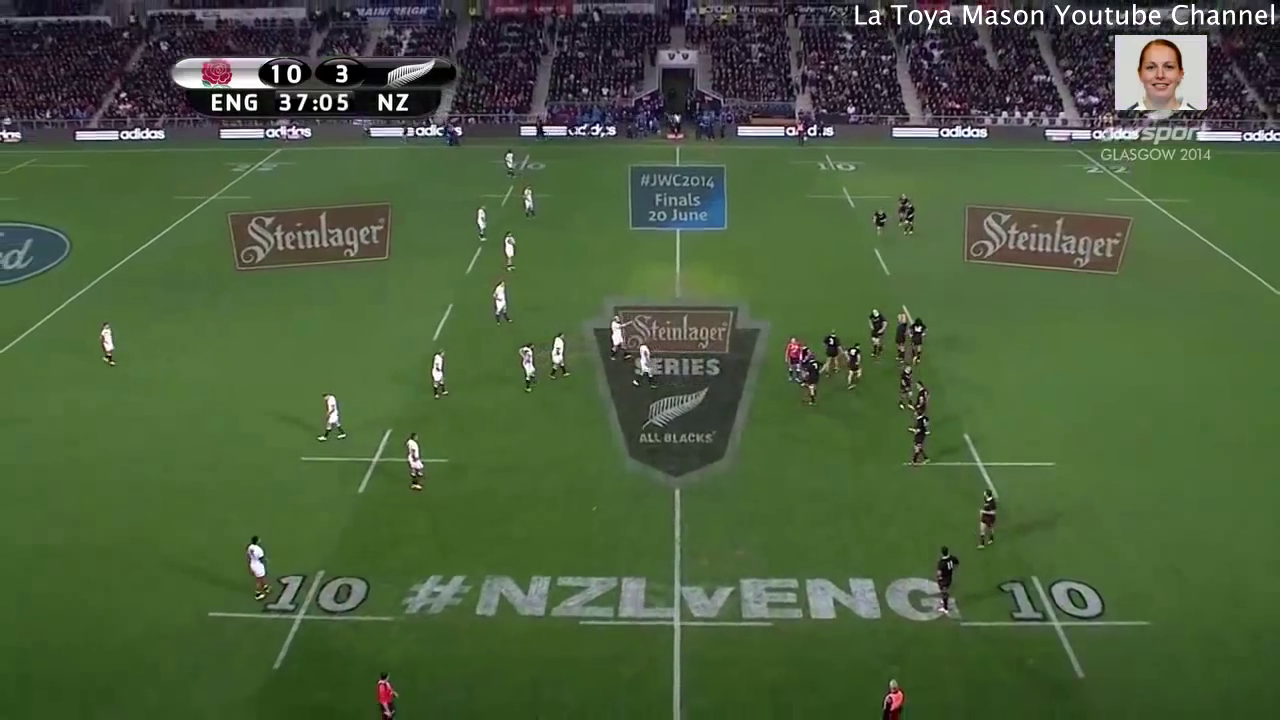10_metre: (193, 560, 405, 675), (951, 571, 1158, 679), (909, 432, 1061, 500), (301, 428, 450, 493), (809, 184, 895, 212), (478, 182, 549, 213), (796, 154, 867, 177), (497, 152, 551, 175)
player: (244, 533, 275, 604), (932, 547, 960, 620), (401, 430, 430, 493), (317, 391, 350, 444), (975, 487, 998, 548), (905, 412, 930, 467), (514, 340, 539, 392), (373, 672, 399, 720), (865, 305, 888, 356), (97, 320, 119, 372), (821, 329, 845, 376), (880, 678, 906, 720), (634, 342, 657, 389), (489, 278, 511, 327), (547, 334, 569, 383), (907, 316, 930, 362), (429, 348, 449, 400), (782, 334, 801, 384), (499, 228, 518, 276), (846, 338, 865, 386), (908, 379, 932, 416), (473, 205, 493, 248), (609, 312, 627, 359), (803, 355, 820, 402), (897, 362, 914, 408), (893, 313, 910, 359), (900, 197, 916, 241), (500, 146, 519, 178), (870, 206, 889, 236), (521, 185, 536, 217), (897, 191, 909, 220)
